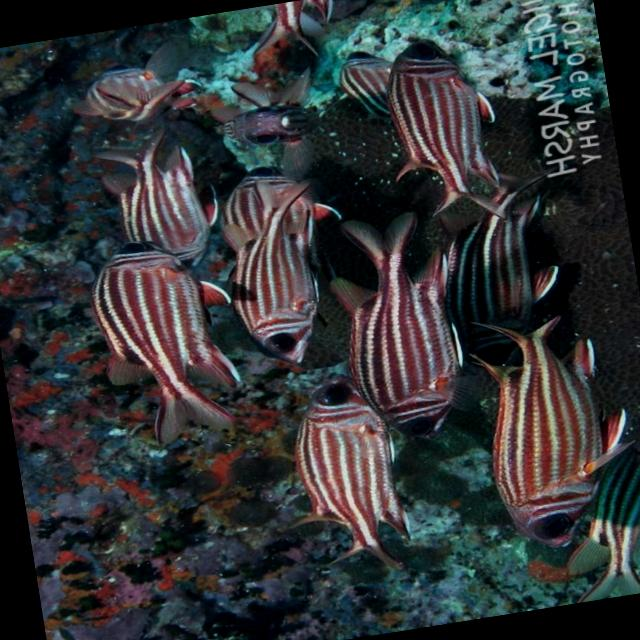Asker Baligi: (448, 286, 640, 566), (60, 222, 265, 472), (242, 356, 434, 604), (357, 25, 526, 224), (214, 186, 354, 380)
